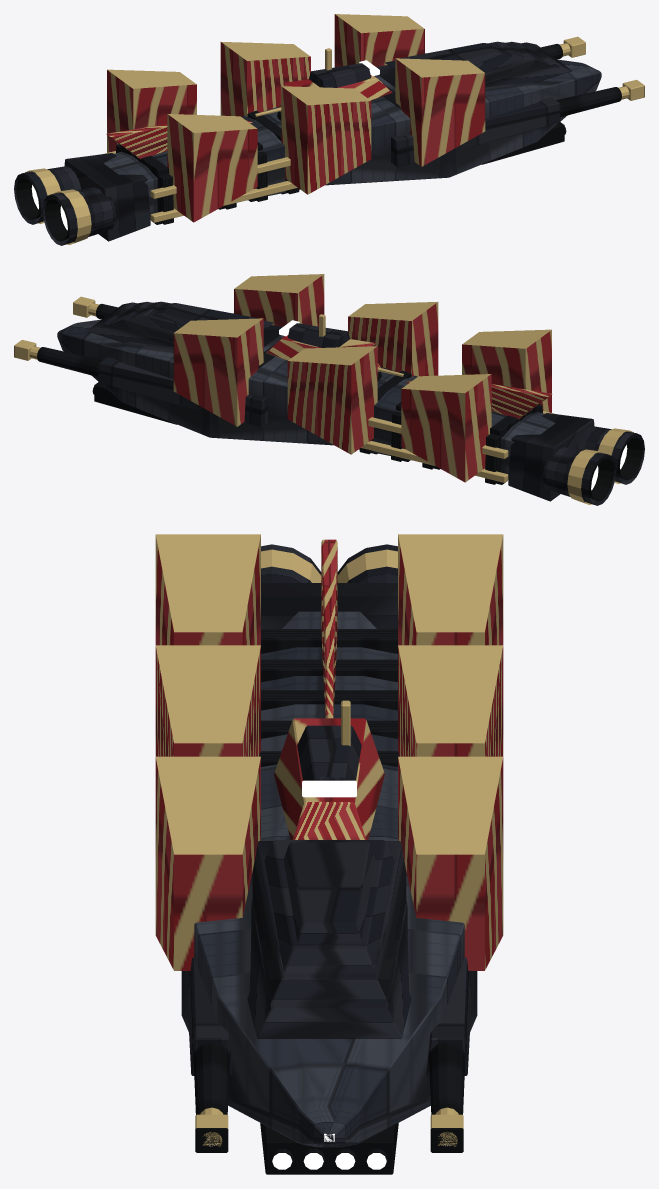
Rendered from destroyer.glb.
3 views of the same model, one above another, from view 1: azimuth 30°, elevation 25°; view 2: azimuth 150°, elevation 25°; view 3: azimuth 270°, elevation 25° (orthographic). The views are drawn at different scales.
Visible parts, largest first — view 1: destroyer; view 2: destroyer; view 3: destroyer.
Boxes of the visible parts, x1,y1,x2,y2 form: destroyer: (14,14,644,245); destroyer: (14,274,644,505); destroyer: (155,534,503,1174).
Size of the model in its own units: 30 by 6.63 by 7.93.
1 material, 1 textured.
